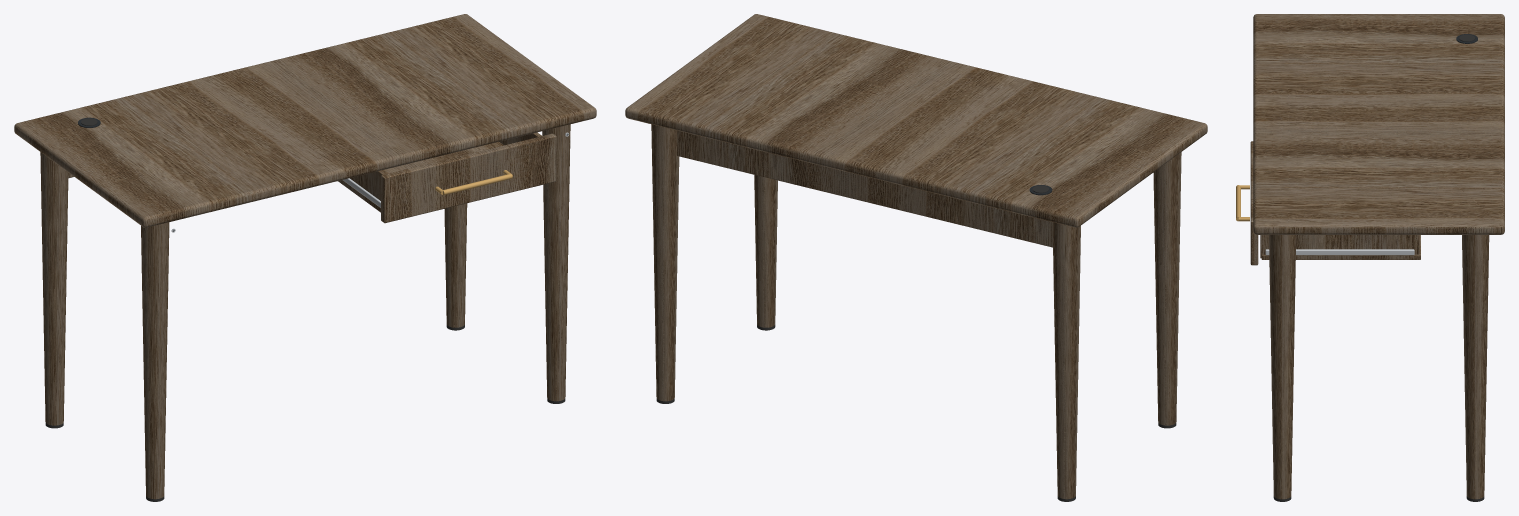
Rendered from detail-desk.glb.
The picture shows the model from 3 angles, left to right: view 1: azimuth 30°, elevation 25°; view 2: azimuth 150°, elevation 25°; view 3: azimuth 270°, elevation 25°; orthographic projection. The views are drawn at different scales.
Parts seen in each view (by area): view 1: 厚实圆角桌面, 抽屉独立面板, 锥形桌腿, 锥形桌腿.001, 锥形桌腿.002, 锥形桌腿.003, 抽屉底板; view 2: 厚实圆角桌面, 桌底围板, 锥形桌腿.001, 锥形桌腿.003, 锥形桌腿, 锥形桌腿.002; view 3: 厚实圆角桌面, 锥形桌腿.002, 锥形桌腿.003, 抽屉侧帮.001, 抽屉金属滑轨.001, 抽屉底板, 抽屉独立面板.
Boxes of the visible parts, x1=… form: 厚实圆角桌面: x1=14, y1=14, x2=596, y2=227; 抽屉独立面板: x1=381, y1=133, x2=556, y2=223; 锥形桌腿: x1=141, y1=222, x2=169, y2=499; 锥形桌腿.001: x1=40, y1=152, x2=68, y2=425; 锥形桌腿.002: x1=542, y1=124, x2=570, y2=401; 锥形桌腿.003: x1=444, y1=203, x2=467, y2=327; 抽屉底板: x1=338, y1=142, x2=503, y2=212; 厚实圆角桌面: x1=625, y1=14, x2=1207, y2=227; 桌底围板: x1=677, y1=130, x2=1052, y2=247; 锥形桌腿.001: x1=1052, y1=222, x2=1080, y2=499; 锥形桌腿.003: x1=651, y1=124, x2=679, y2=401; 锥形桌腿: x1=1153, y1=152, x2=1181, y2=425; 锥形桌腿.002: x1=754, y1=175, x2=777, y2=327; 厚实圆角桌面: x1=1253, y1=14, x2=1504, y2=234; 锥形桌腿.002: x1=1269, y1=235, x2=1296, y2=499; 锥形桌腿.003: x1=1462, y1=235, x2=1489, y2=499; 抽屉侧帮.001: x1=1260, y1=235, x2=1419, y2=258; 抽屉金属滑轨.001: x1=1265, y1=249, x2=1414, y2=255; 抽屉底板: x1=1261, y1=235, x2=1420, y2=259; 抽屉独立面板: x1=1250, y1=141, x2=1258, y2=265.
Bounding box in the file's own units: 1.2 × 0.7535 × 0.641.
5 materials, 1 textured.
